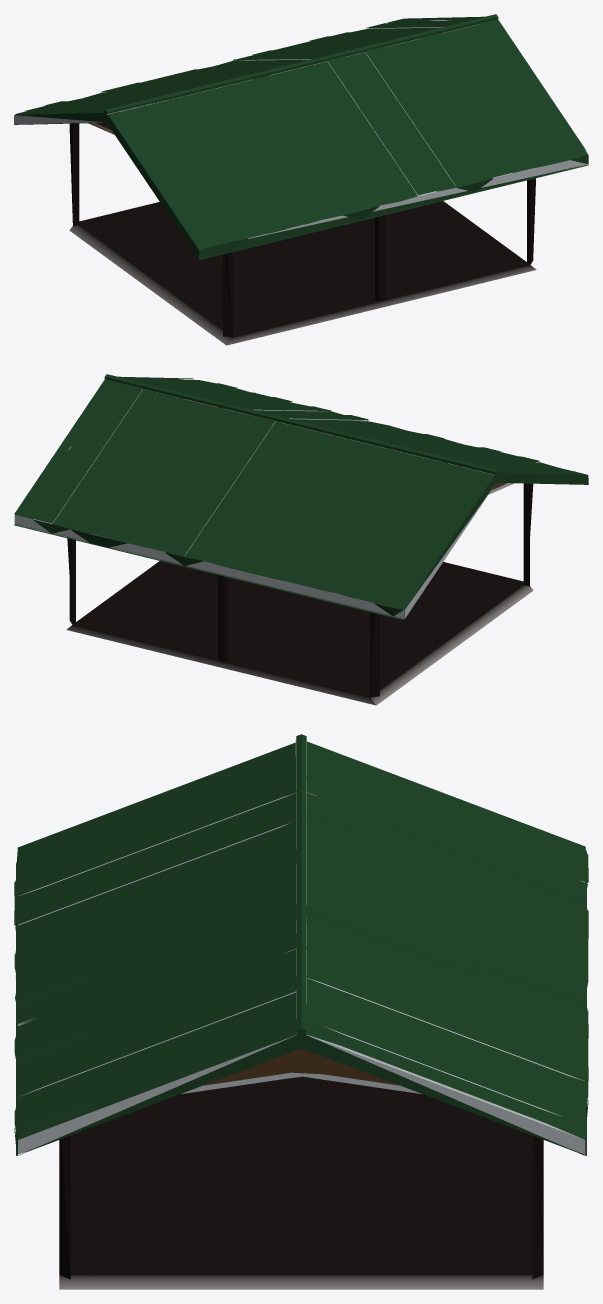
The model's file is rest-shelter.zfix-v6.lod1.glb.
The picture shows the model from 3 angles, top to bottom: view 1: azimuth 30°, elevation 25°; view 2: azimuth 150°, elevation 25°; view 3: azimuth 270°, elevation 25°; orthographic projection. The views are drawn at different scales.
Parts seen in each view (by area): view 1: Material2; view 2: Material2; view 3: Material2.
Part boxes in pixels (bbox=[...]): Material2: bbox=[14, 14, 588, 345]; Material2: bbox=[14, 374, 588, 705]; Material2: bbox=[14, 734, 588, 1289].
Bounding box in the file's own units: 10.35 × 4.77 × 8.55.
